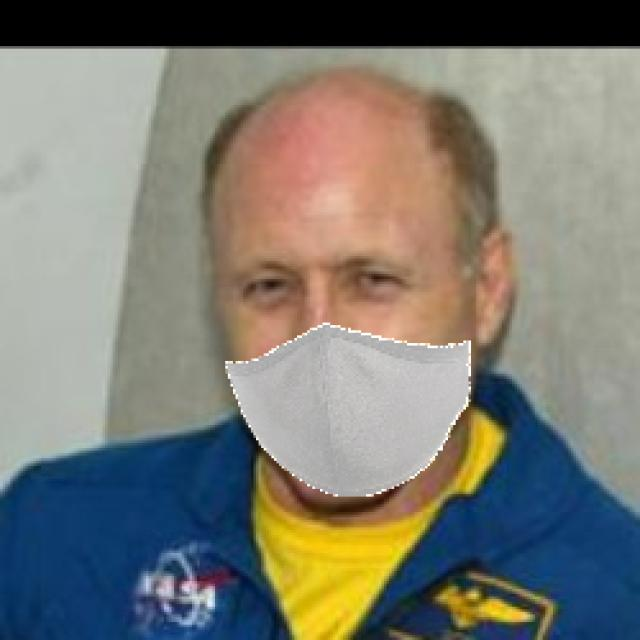mask: (193, 303, 499, 528)
